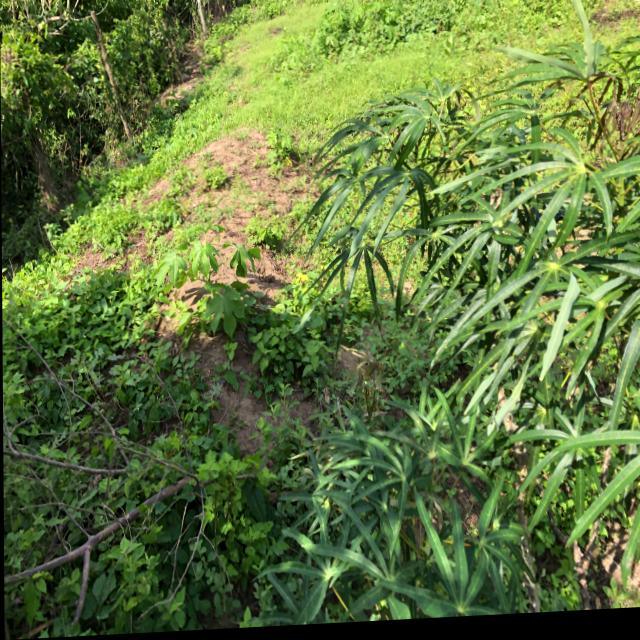Maleza: (0, 341, 232, 617), (0, 12, 173, 380), (0, 27, 258, 205), (41, 21, 413, 91), (0, 0, 634, 41)
Mosca: (383, 467, 393, 481), (295, 542, 308, 550)
